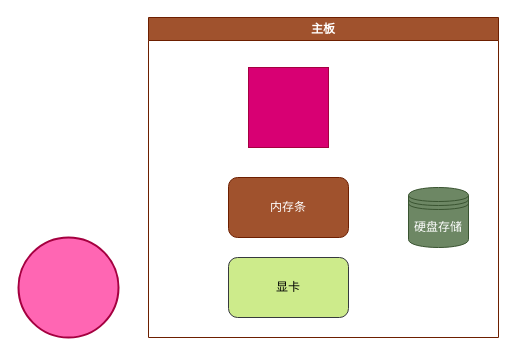
The diagram is 516 pixels wide and 356 high, and some of its shapes have lost their labels. The centre of each missing label's shape, as x and y in pixels:
"CPU" goes at (x=288, y=107).
"电源" goes at (x=68, y=287).
